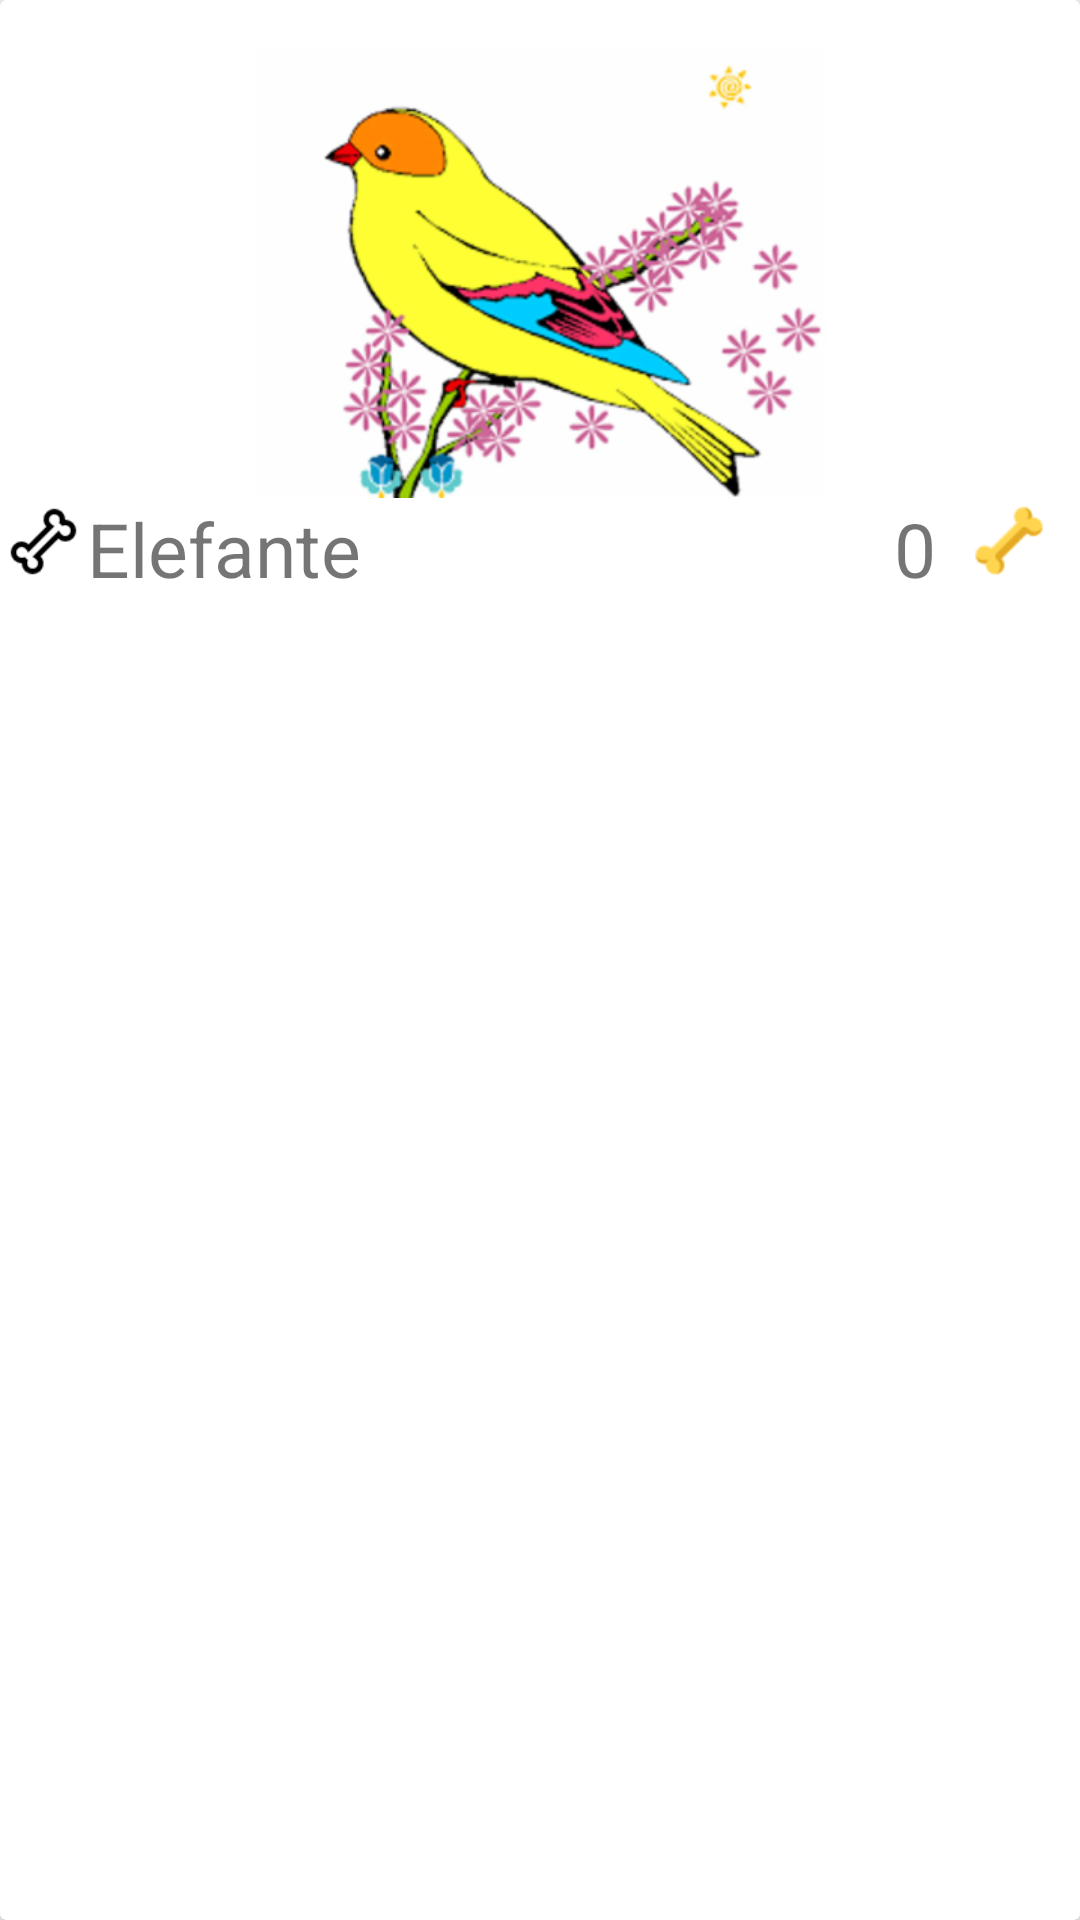

Icons on this 1080x1920 Android screen, each with the point to tap as point (x, y):
hueso amarillo: point (1009, 540)
hueso blanco: point (43, 541)
